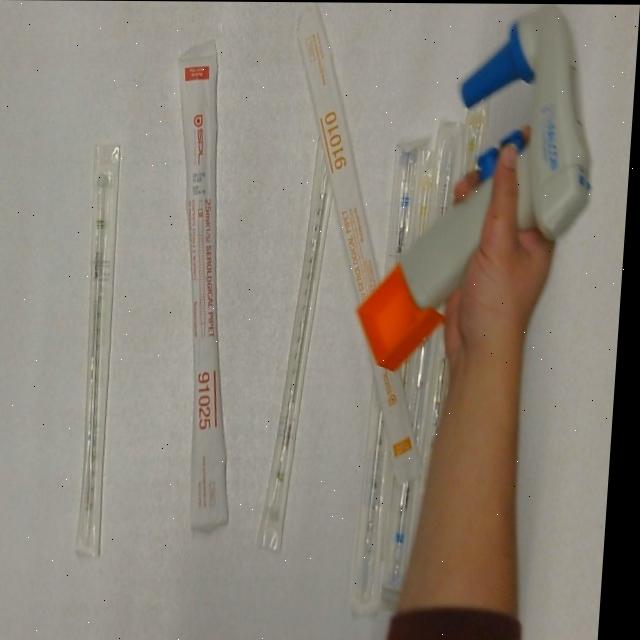Pipette Controller: (353, 2, 604, 377)
Serelogical Pipet 1 mL: (423, 90, 501, 497), (396, 147, 447, 399)
Serelogical Pipet 10 mL: (270, 2, 452, 480)
Serelogical Pipet 2 mL: (260, 125, 344, 553), (75, 140, 133, 564)
Serelogical Pipet 25 mL: (154, 36, 277, 535)
Serelogical Pipet 5 mL: (390, 118, 468, 610), (355, 128, 433, 616)
